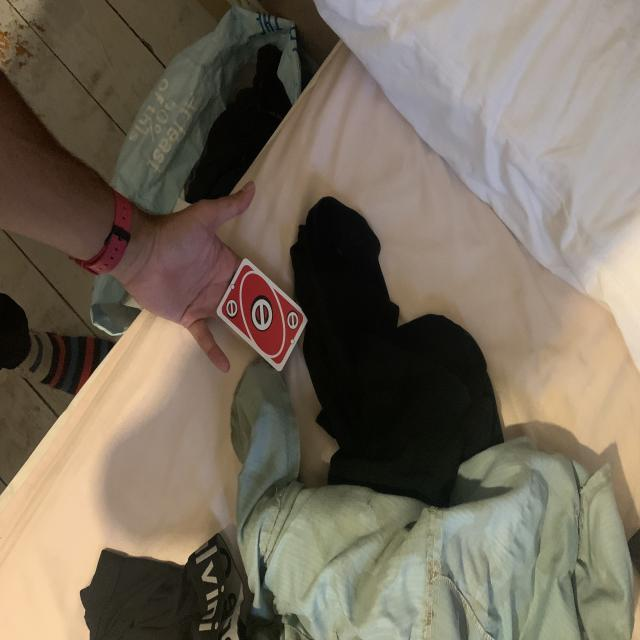lredskip-20: (283, 309, 302, 332)
